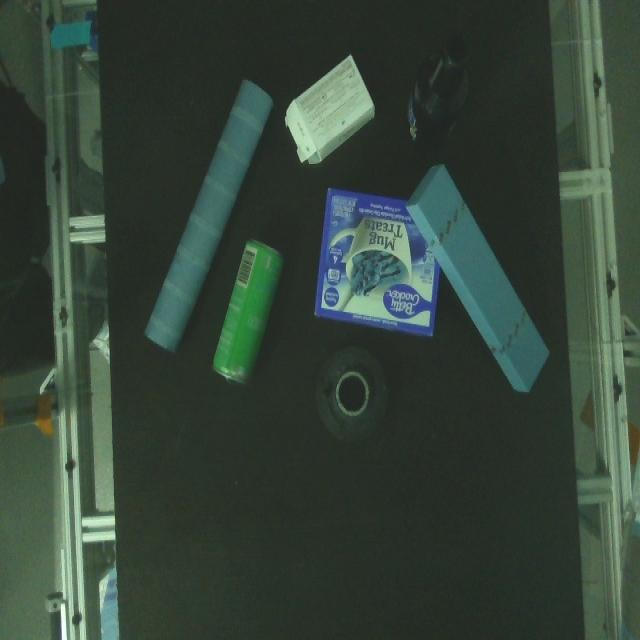non-paper: (403, 36, 484, 156), (310, 344, 398, 444)
paper: (140, 69, 278, 354), (396, 158, 556, 397), (298, 174, 446, 348), (284, 50, 378, 166)
